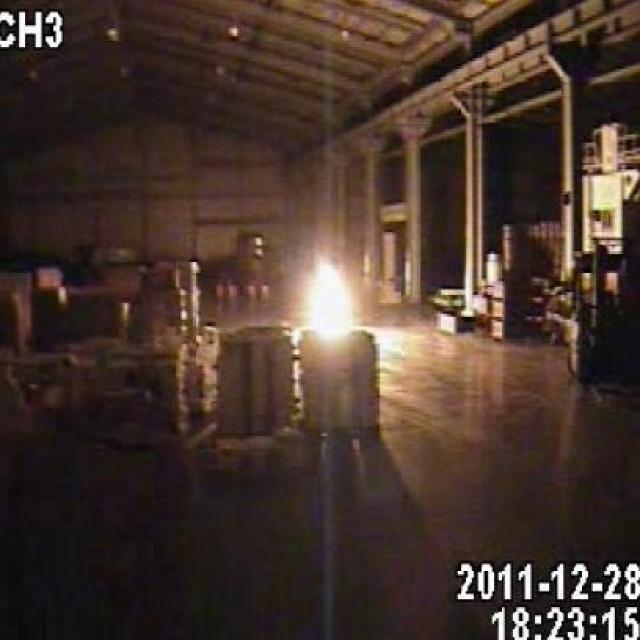smoke: (294, 248, 355, 338)
